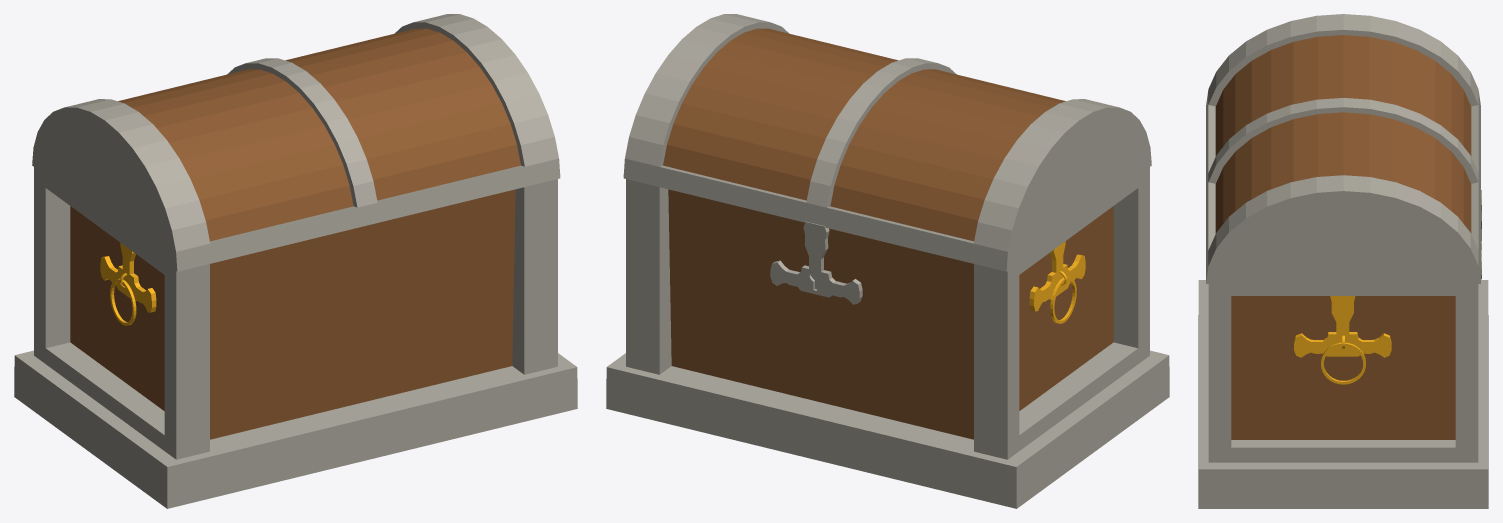
File: Chest.fbx
3 renders of one model, left to right at view 1: azimuth 30°, elevation 25°; view 2: azimuth 150°, elevation 25°; view 3: azimuth 270°, elevation 25°, orthographic. The views are drawn at different scales.
Parts seen in each view (by area): view 1: Cube, Cylinder, Circle.002; view 2: Cube, Cylinder, Plane, Circle.002; view 3: Cylinder, Cube, Circle.001.
Part boxes in pixels (bbox=[...]): Cube: bbox=[14, 167, 577, 508]; Cylinder: bbox=[32, 14, 560, 271]; Circle.002: bbox=[100, 243, 156, 325]; Cube: bbox=[606, 167, 1169, 508]; Cylinder: bbox=[623, 14, 1151, 271]; Plane: bbox=[770, 221, 862, 304]; Circle.002: bbox=[1029, 241, 1085, 323]; Cylinder: bbox=[1206, 14, 1480, 283]; Cube: bbox=[1198, 280, 1488, 508]; Circle.001: bbox=[1294, 296, 1391, 384].
Size of the model in its own units: 333 by 255 by 215.
